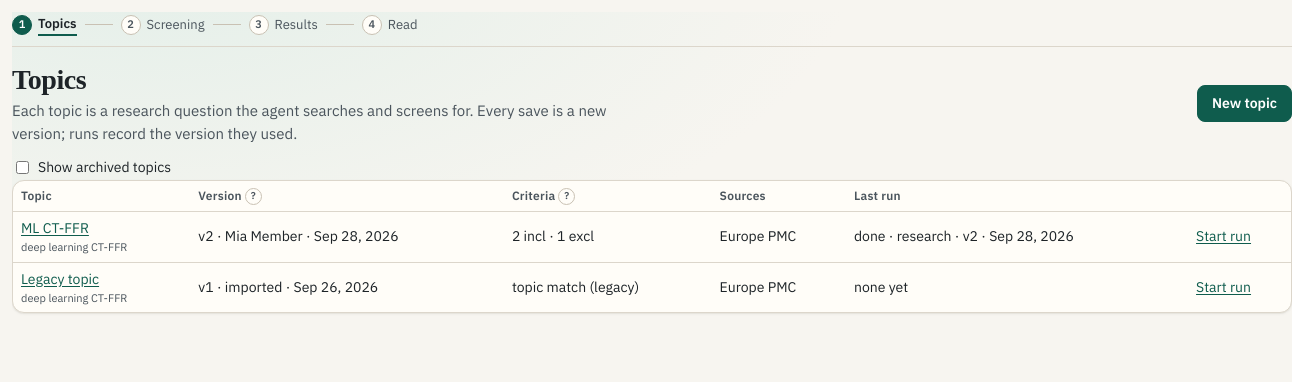
Test: FieldsPage › shows archived fields on request, without Start run
Expected: the table is shown, [12,180,1291,313]
Expected: the text "Old field" is not shown
Click the checkbox labelled "Show archived topics" at point(22, 168), box [16,161,29,174]
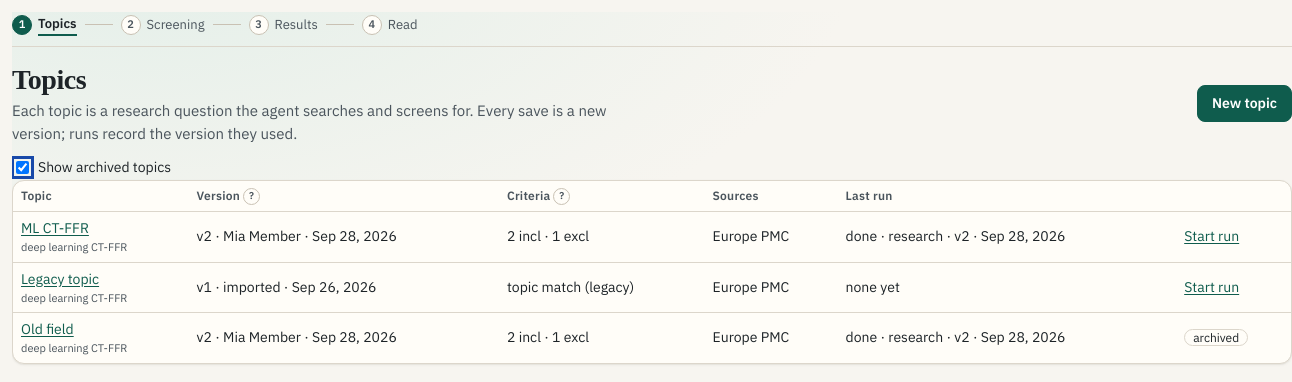
Expected: the row "Old field" shows "archived", [1193,330,1239,345]
